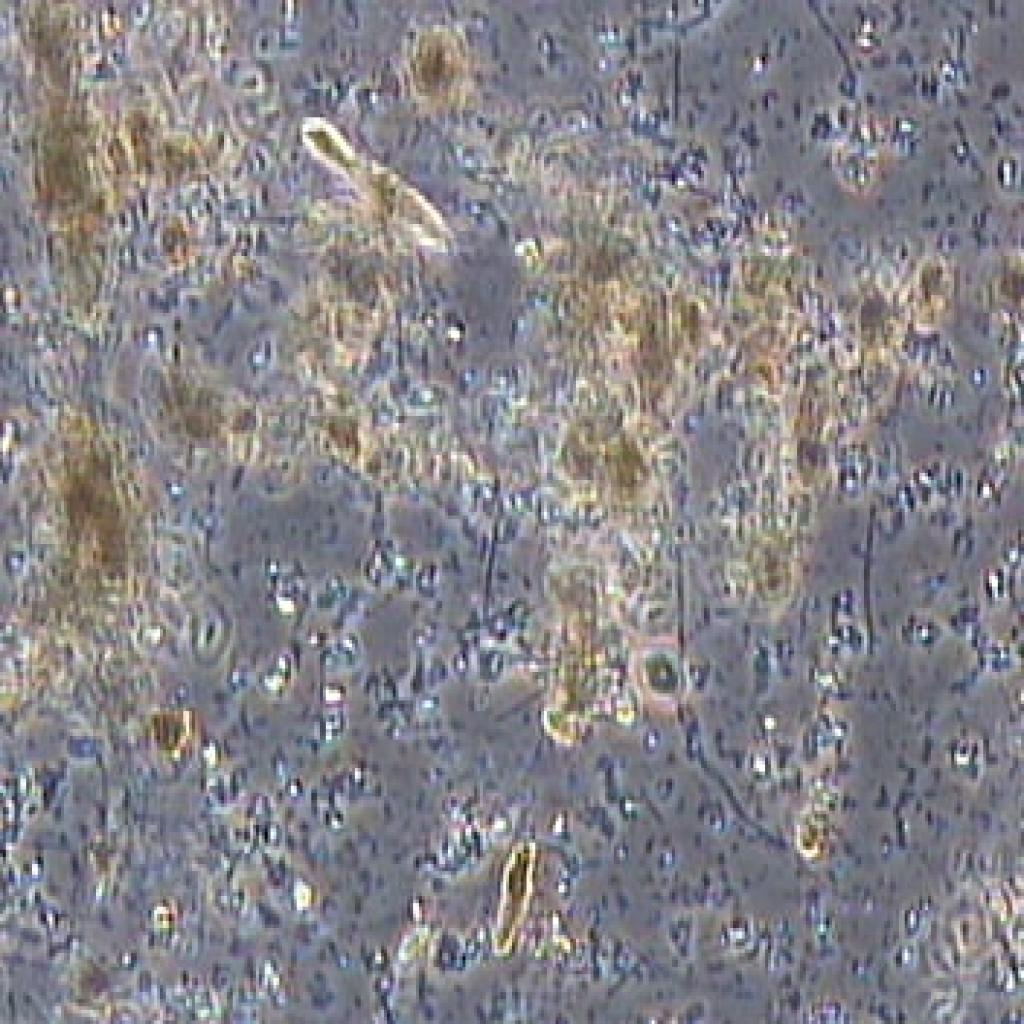Chaetonotus: (296, 105, 452, 265)
